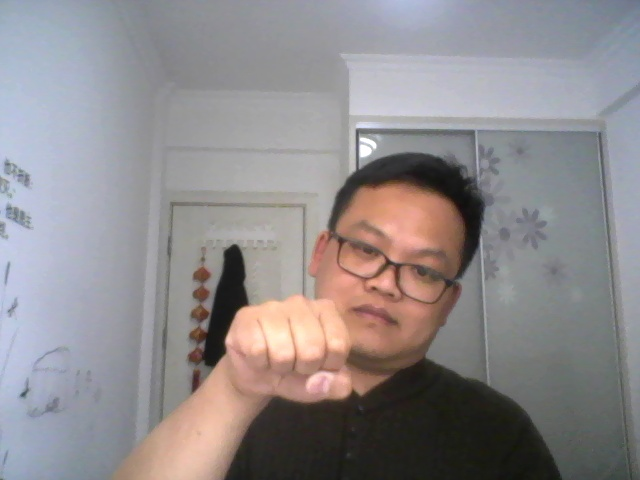Yes: (211, 287, 368, 417)
